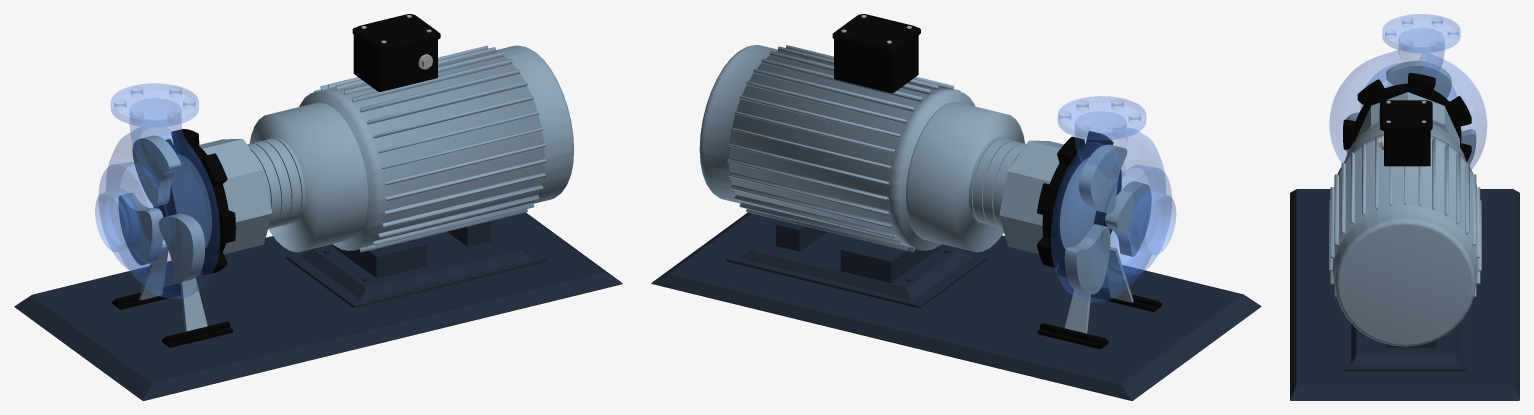
Rendered from 冷冻泵.glb.
3 renders of one model, left to right at view 1: azimuth 30°, elevation 25°; view 2: azimuth 150°, elevation 25°; view 3: azimuth 270°, elevation 25°, orthographic. The views are drawn at different scales.
Visible parts, largest first — view 1: 立方体042, 柱体036, 柱体044, 柱体037, 立方体043, 柱体034, 立方体050, Gear001, 柱体035, 立方体047, 立方体049, 柱体044_1; view 2: 立方体042, 柱体036, 柱体044, 柱体037, 立方体043, 柱体034, 立方体050, Gear001, 柱体035, 立方体047, 立方体049, 柱体044_1; view 3: 立方体042, 柱体036, 柱体044, 立方体050, Gear001, 立方体043, 柱体034, 柱体037, 柱体044_1.
Part boxes in pixels (x1,y1,x2,y2): 立方体042: (14,212,622,400); 柱体036: (299,45,573,252); 柱体044: (95,83,219,298); 柱体037: (249,102,368,252); 立方体043: (118,135,205,282); 柱体034: (171,139,272,254); 立方体050: (352,14,440,91); Gear001: (153,129,235,275); 柱体035: (247,137,305,228); 立方体047: (180,278,207,331); 立方体049: (139,244,168,300); 柱体044_1: (114,87,195,123); 立方体042: (651,212,1261,400); 柱体036: (699,45,975,252); 柱体044: (1051,96,1175,301); 柱体037: (906,102,1024,252); 立方体043: (1064,144,1151,294); 柱体034: (999,140,1095,253); 立方体050: (832,14,920,93); Gear001: (1037,131,1121,277); 柱体035: (968,137,1025,227); 立方体047: (1107,247,1133,302); 立方体049: (1064,289,1091,333); 柱体044_1: (1059,99,1140,136); 立方体042: (1290,189,1519,400); 柱体036: (1329,134,1481,346); 柱体044: (1329,14,1486,169); 立方体050: (1379,100,1432,166); Gear001: (1343,73,1471,161); 立方体043: (1346,60,1476,164); 柱体034: (1356,92,1459,146); 柱体037: (1345,123,1465,159); 柱体044_1: (1385,17,1458,50).
Bounding box in the file's own units: 94.14 × 46.26 × 43.9.
